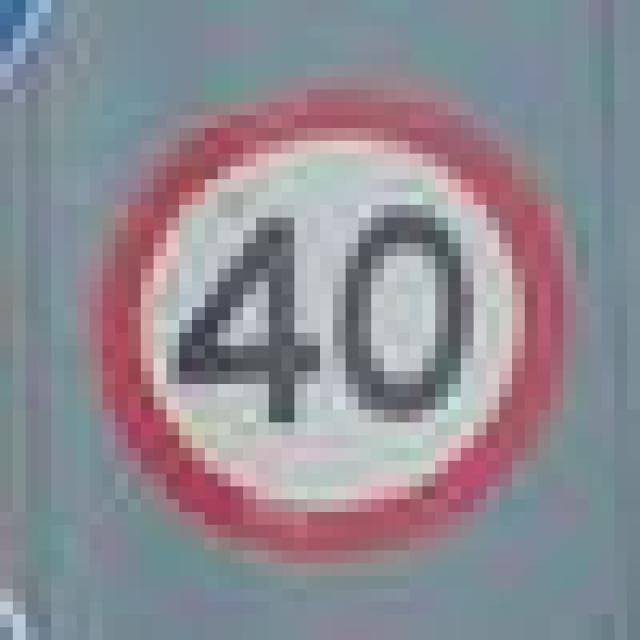falling_rocks: (77, 64, 563, 550)
